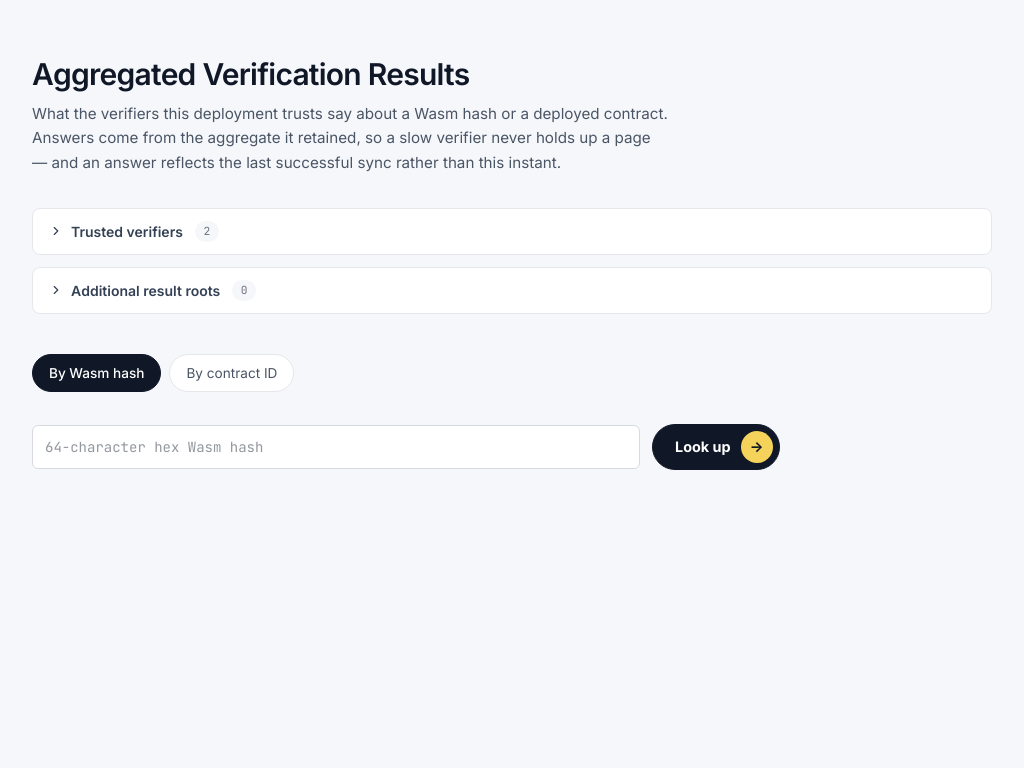
Test: the aggregator page › not-a-url is refused rather than added
Click the button with test id "roots-section-toggle": (146, 290) [33,268,991,313]
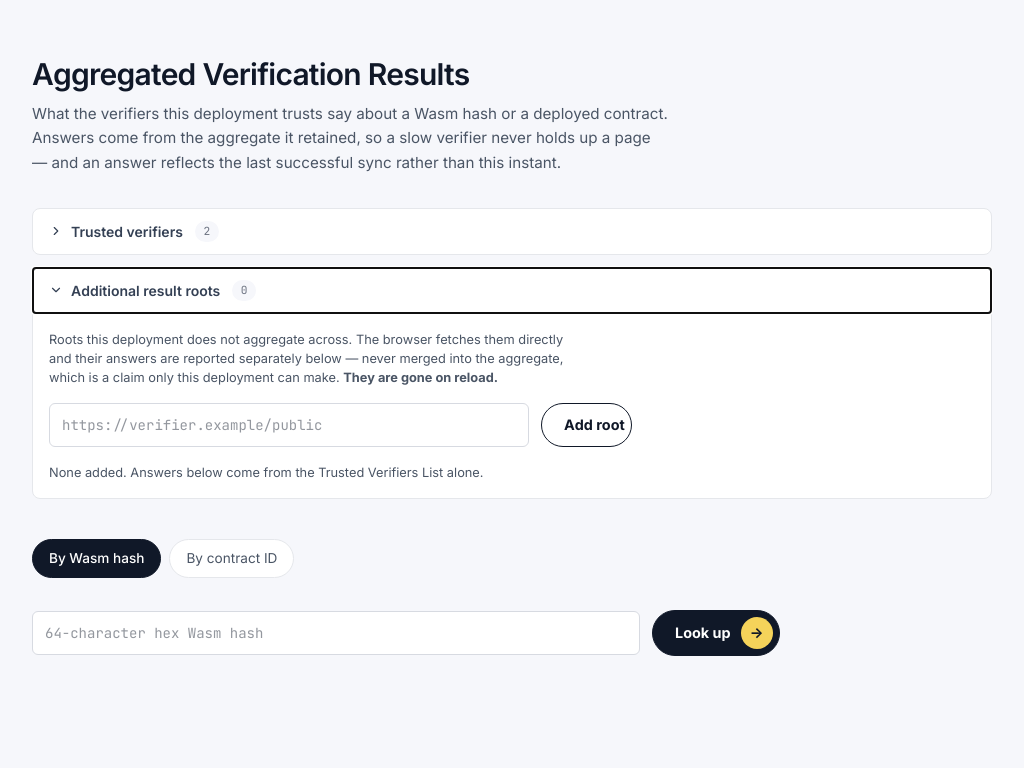
In the field named "Additional result root": (289, 425) [49,403,529,447], type "not-a-url"
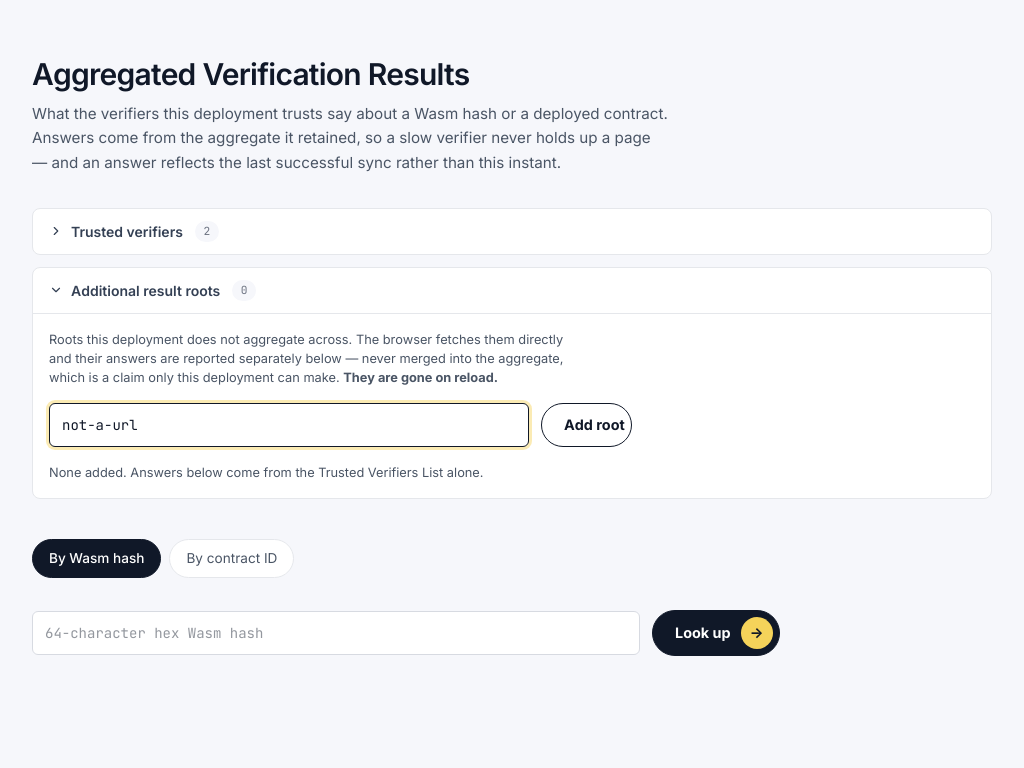
Click the button "Add root": (586, 425) [541,403,632,447]
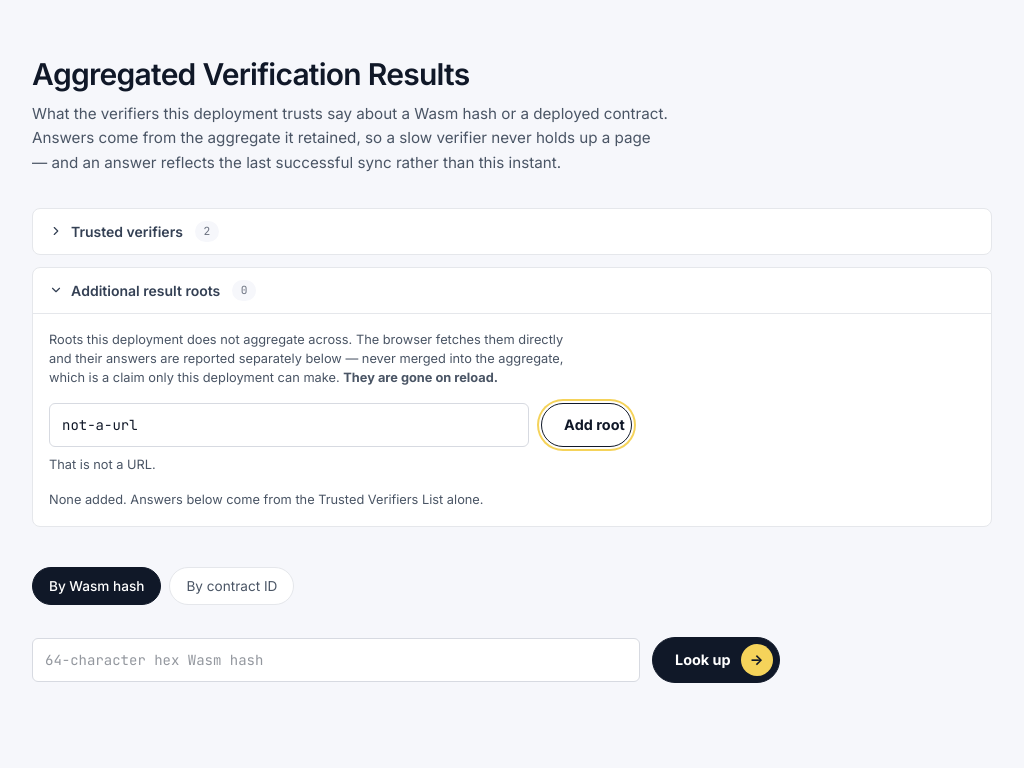
expect the text with test id "roots-section-badge" reads "0": met, box [241,283,248,297]
expect the text with test id "additional-root-error" shows "not a URL": met, box [49,457,156,472]
